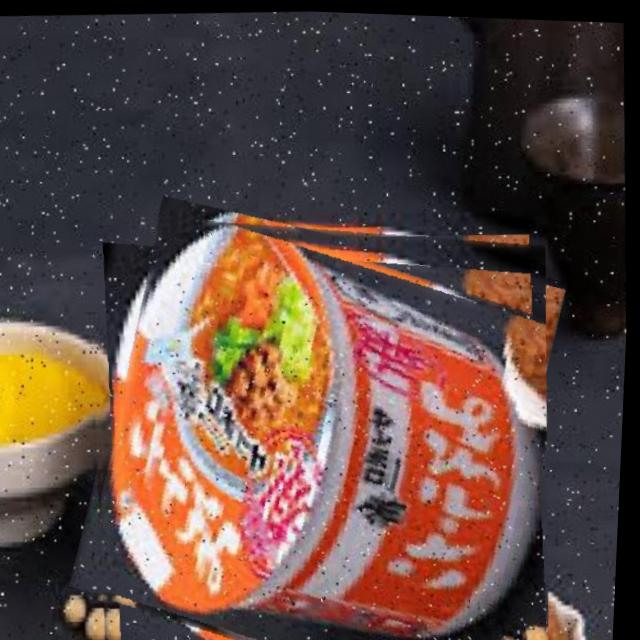Miscellaneous: (71, 188, 570, 640)
